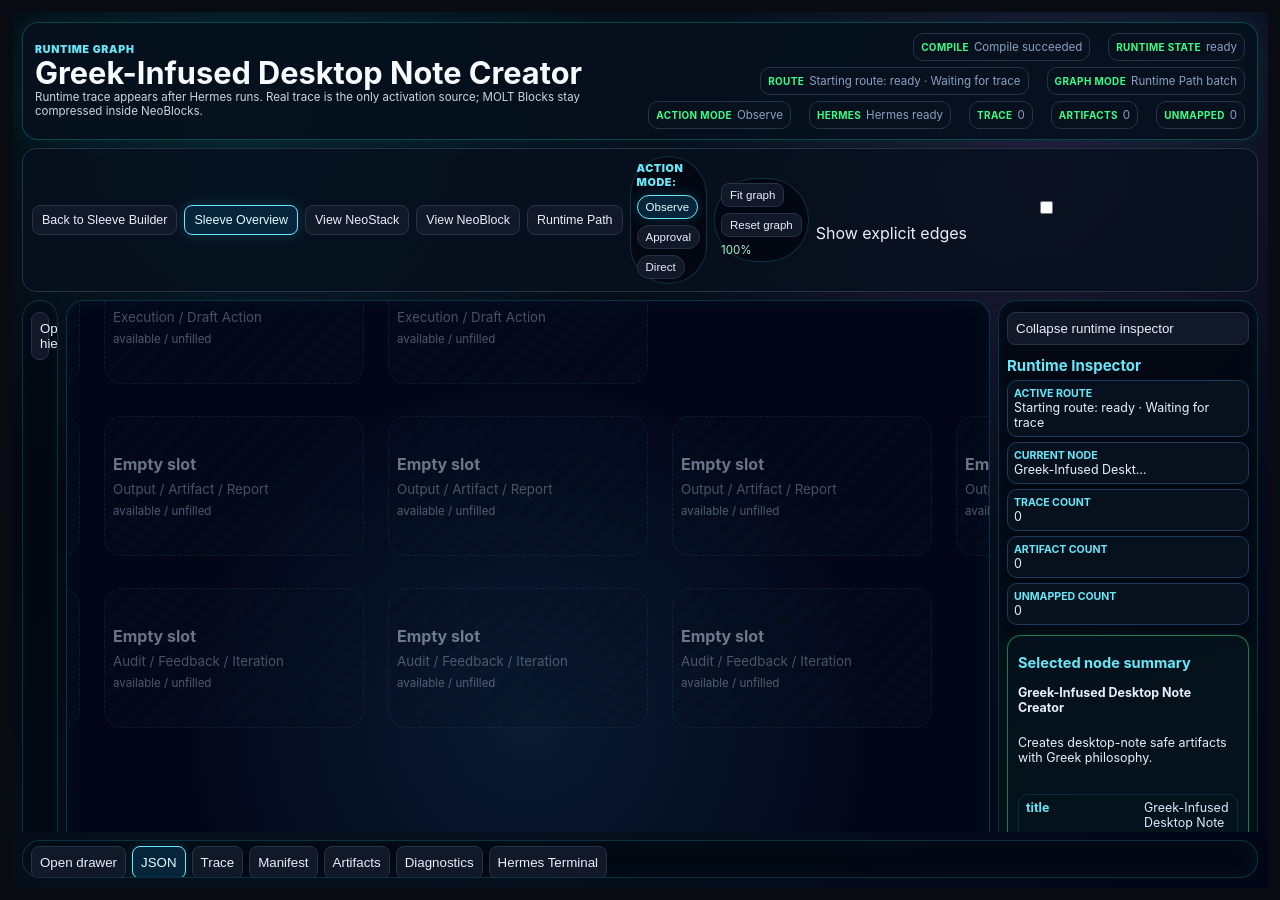
Test: RuntimeGeometryObserver › Hermes Terminal default view hides debug fields and premature missing capability card
The width and height of the screenshot is (1280, 900).
Click the button "Hermes Terminal".
click(548, 862)  # box [489,846,607,879]
(page scrolled)
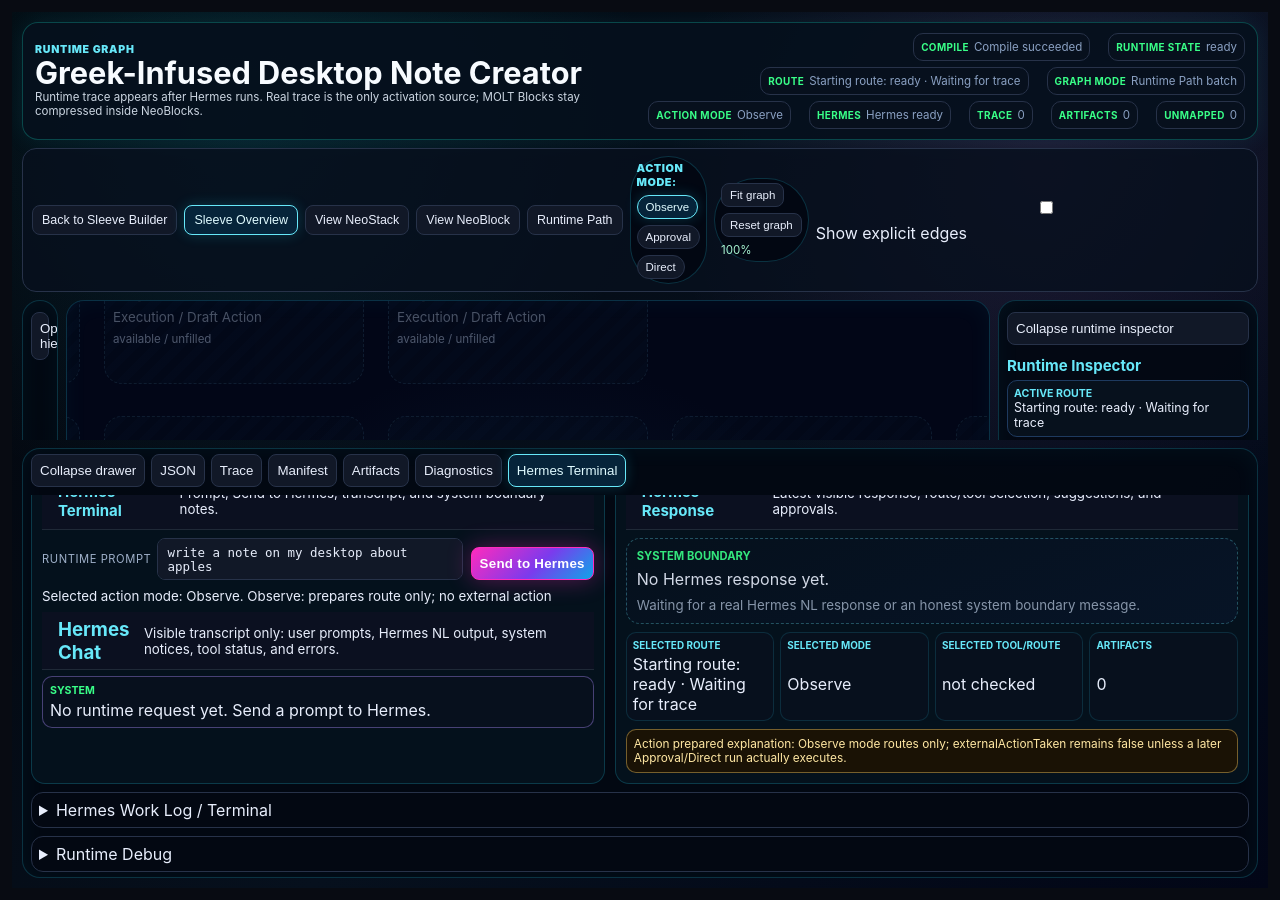
Check: the element named "Hermes Terminal drawer" shows "No runtime request yet. Send a prompt to Hermes.", box [50,700,431,720]
Check: the element labelled "Hermes Chat" is shown, box [58,618,130,664]
Check: the element "Runtime Debug" is shown, box [31,836,1249,872]
